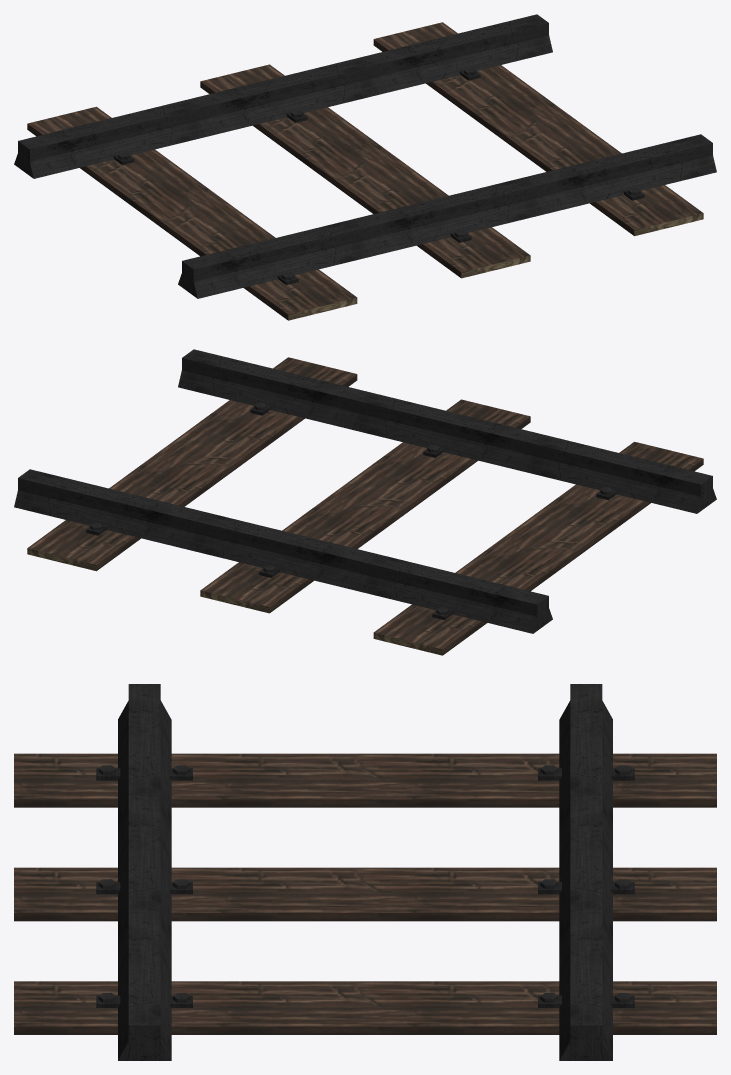
Rendered from locomotive-01-rail-3x.fbx.
3 views of the same model, one above another, from view 1: azimuth 30°, elevation 25°; view 2: azimuth 150°, elevation 25°; view 3: azimuth 270°, elevation 25° (orthographic). The views are drawn at different scales.
Visible parts, largest first — view 1: Cube.004; view 2: Cube.004; view 3: Cube.004.
Part boxes in pixels (<box>): Cube.004: <box>14,14,716,320</box>; Cube.004: <box>14,349,716,655</box>; Cube.004: <box>14,684,716,1060</box>.
Bounding box in the file's own units: 3 × 0.1799 × 2.61.
